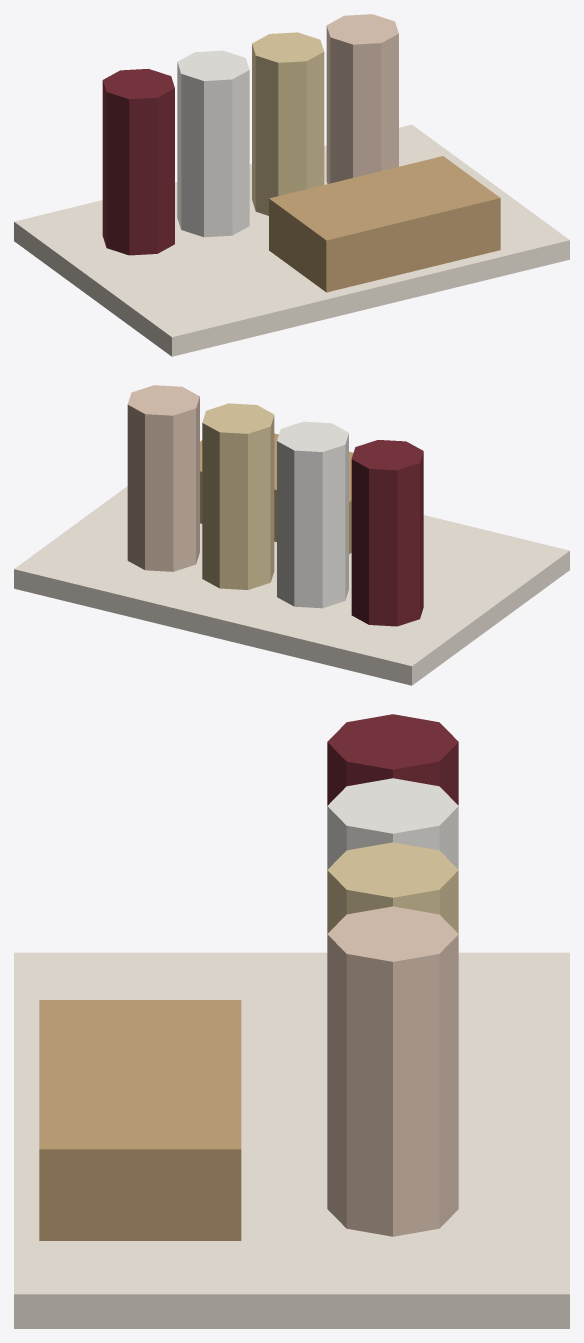
File: conjunto_materiais.obj
3 renders of one model, top to bottom at view 1: azimuth 30°, elevation 25°; view 2: azimuth 150°, elevation 25°; view 3: azimuth 270°, elevation 25°, orthographic. The views are drawn at different scales.
Parts seen in each view (by area): view 1: conjunto_materiais; view 2: conjunto_materiais; view 3: conjunto_materiais.
Part boxes in pixels (x1=…): conjunto_materiais: x1=14, y1=14, x2=569, y2=356; conjunto_materiais: x1=14, y1=385, x2=569, y2=685; conjunto_materiais: x1=14, y1=714, x2=569, y2=1328.
Bounding box in the file's own units: 32 × 13.5 × 22.
